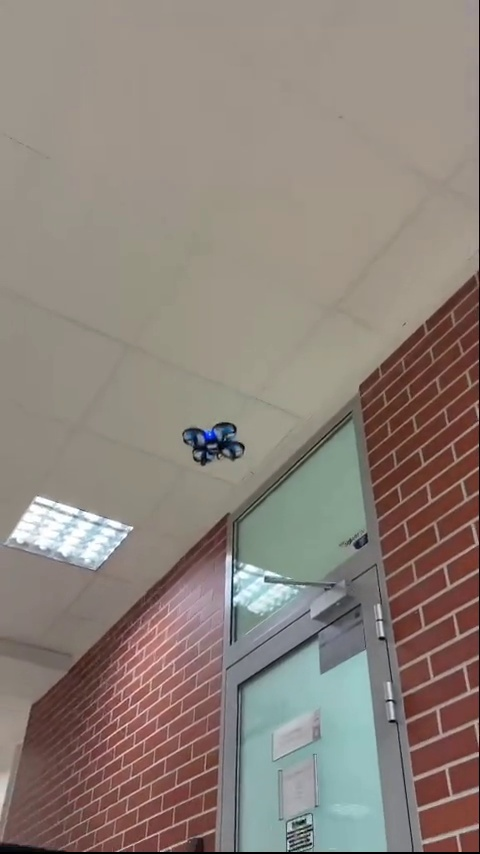drone: (182, 423, 246, 469)
